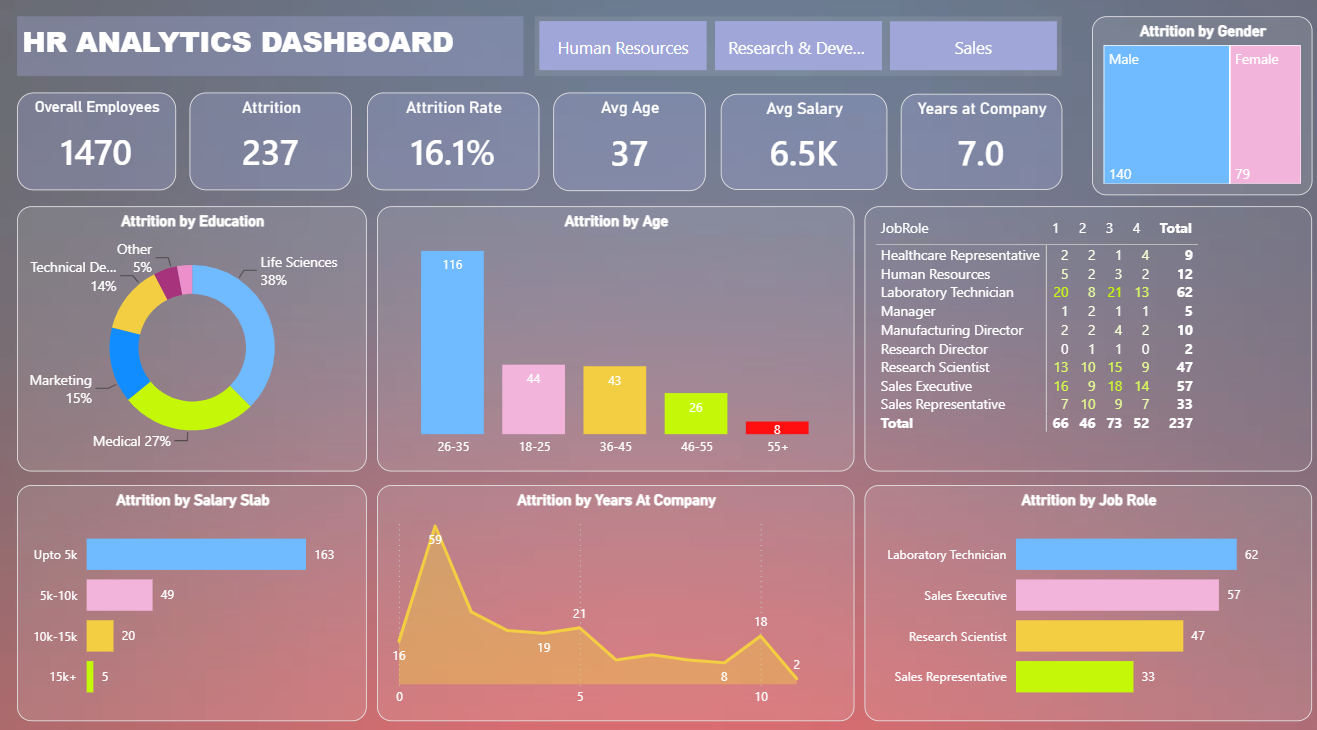

The dashboard page shown, as its layout file describes it:
{"tool":"powerbi","page":{"name":"Page 1","canvas":[1280,720],"ordinal":0},"visuals":[{"type":"cardVisual","title":"Overall Employees","fields":{"Data":["CountNonNull(HR_Analytics.EmpID)"]},"box":[19.3,94.1,153.2,94.1],"z":0},{"type":"cardVisual","title":"Attrition","fields":{"Data":["Sum(HR_Analytics.AttritionCount)"]},"box":[185.8,94.1,156.8,94.1],"z":1000},{"type":"cardVisual","title":"Attrition Rate","fields":{"Data":["HR_Analytics.AttritionRate"]},"box":[357.1,94.1,166.5,94.1],"z":2000},{"type":"cardVisual","title":"Avg Age","fields":{"Data":["Avg(HR_Analytics.Age)"]},"box":[536.9,94.1,147.2,95.3],"z":3000},{"type":"cardVisual","title":"Avg Salary","fields":{"Data":["Avg(HR_Analytics.MonthlyIncome)"]},"box":[698.5,95.3,160.5,92.9],"z":4000},{"type":"cardVisual","title":"Years at Company","fields":{"Data":["Avg(HR_Analytics.YearsAtCompany)"]},"box":[872.3,95.3,155.6,92.9],"z":5000},{"type":"donutChart","title":"Attrition by Education","fields":{"Category":["HR_Analytics.EducationField"],"Y":["Sum(HR_Analytics.AttritionCount)"]},"box":[19.3,203.9,337.8,255.8],"z":6000},{"type":"columnChart","title":"Attrition by Age","fields":{"Category":["HR_Analytics.AgeGroup"],"Y":["Sum(HR_Analytics.AttritionCount)"]},"box":[366.8,203.9,460.9,255.8],"z":7000},{"type":"pivotTable","fields":{"Rows":["HR_Analytics.JobRole"],"Columns":["HR_Analytics.JobSatisfaction"],"Values":["Sum(HR_Analytics.AttritionCount)"]},"box":[837.3,203.9,431.9,255.8],"z":8000},{"type":"barChart","title":"Attrition by Salary Slab","fields":{"Category":["HR_Analytics.SalarySlab"],"Y":["Sum(HR_Analytics.AttritionCount)"]},"box":[19.3,472.9,337.8,228],"z":9000},{"type":"barChart","title":"Attrition by Job Role","fields":{"Y":["Sum(HR_Analytics.AttritionCount)"],"Category":["HR_Analytics.JobRole"]},"box":[837.3,472.9,431.9,228],"z":10000},{"type":"areaChart","title":"Attrition by Years At Company","fields":{"Category":["HR_Analytics.YearsAtCompany"],"Y":["Sum(HR_Analytics.AttritionCount)"]},"box":[366.8,472.9,460.9,228],"z":11000},{"type":"treemap","title":"Attrition by Gender","fields":{"Group":["HR_Analytics.Gender"],"Values":["Sum(HR_Analytics.AttritionCount)"]},"box":[1056.6,20.6,212.7,172.9],"z":12000},{"type":"advancedSlicerVisual","fields":{"Values":["HR_Analytics.Department"]},"box":[518.8,20.5,509.1,57.9],"z":13000},{"type":"textbox","box":[19.2,20.6,488.5,57.6],"z":14000}]}

Visuals, with their boxes in screenshot pixels (x1, y1, x2, y2), scaled from the page's 1280x720 canvas onto the 1317x730 screenshot:
"Overall Employees" cardVisual: pyautogui.locateOnScreen(20, 95, 177, 191)
"Attrition" cardVisual: pyautogui.locateOnScreen(191, 95, 353, 191)
"Attrition Rate" cardVisual: pyautogui.locateOnScreen(367, 95, 539, 191)
"Avg Age" cardVisual: pyautogui.locateOnScreen(552, 95, 704, 192)
"Avg Salary" cardVisual: pyautogui.locateOnScreen(719, 97, 884, 191)
"Years at Company" cardVisual: pyautogui.locateOnScreen(898, 97, 1058, 191)
"Attrition by Education" donutChart: pyautogui.locateOnScreen(20, 207, 367, 466)
"Attrition by Age" columnChart: pyautogui.locateOnScreen(377, 207, 852, 466)
pivotTable - HR_Analytics.JobRole x HR_Analytics.JobSatisfaction: pyautogui.locateOnScreen(862, 207, 1306, 466)
"Attrition by Salary Slab" barChart: pyautogui.locateOnScreen(20, 479, 367, 711)
"Attrition by Job Role" barChart: pyautogui.locateOnScreen(862, 479, 1306, 711)
"Attrition by Years At Company" areaChart: pyautogui.locateOnScreen(377, 479, 852, 711)
"Attrition by Gender" treemap: pyautogui.locateOnScreen(1087, 21, 1306, 196)
advancedSlicerVisual - HR_Analytics.Department: pyautogui.locateOnScreen(534, 21, 1058, 79)
textbox: pyautogui.locateOnScreen(20, 21, 522, 79)
